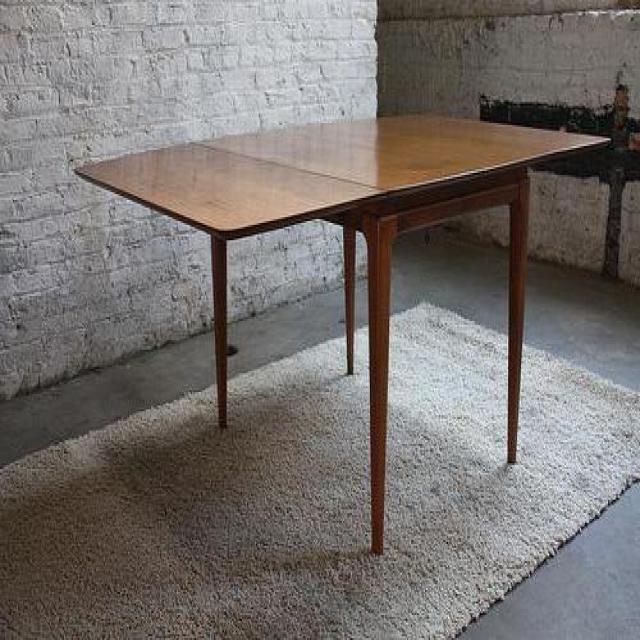Table: (63, 66, 636, 585)
